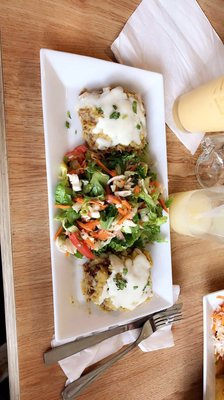sushi: (40, 49, 170, 330)
